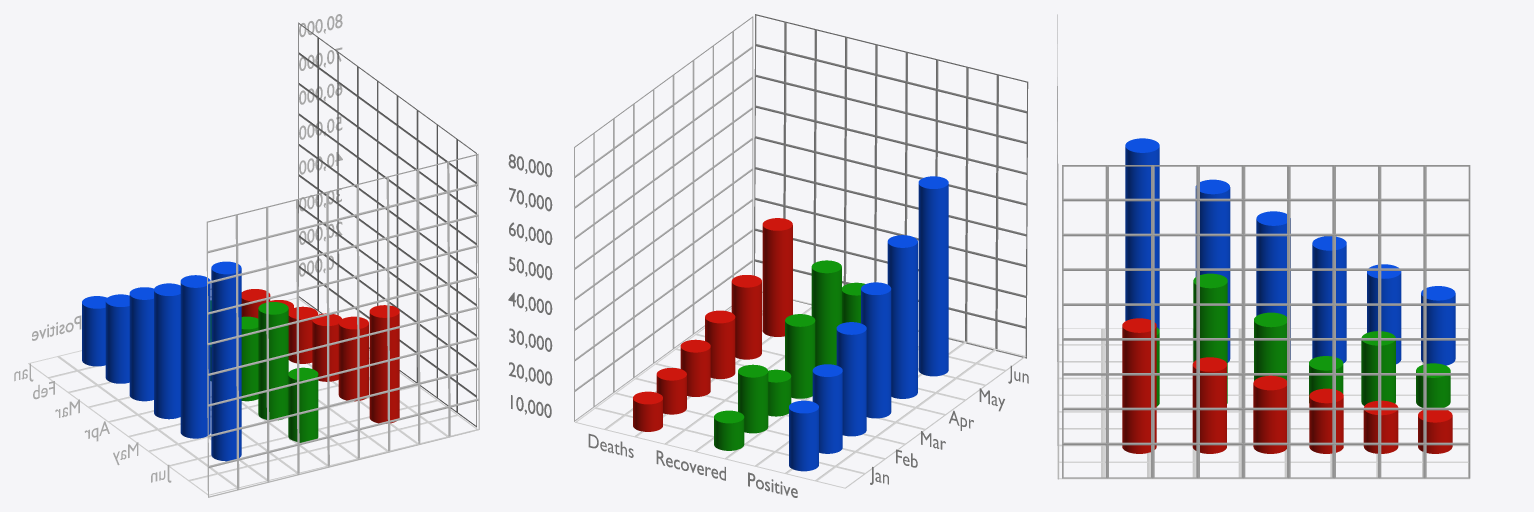
The model's file is bar chart.fbx.
The picture shows the model from 3 angles, left to right: view 1: azimuth 30°, elevation 25°; view 2: azimuth 150°, elevation 25°; view 3: azimuth 270°, elevation 25°; orthographic projection. The views are drawn at different scales.
Parts seen in each view (by area): view 1: Grid.003, Grid.002, rrrrrrr.002, Cylinder.014, Grid.001, Cylinder.013, rrrrrrr, rrrrrrr.001, Cylinder.012, Cylinder.004, Cylinder.011, Cylinder.009 (+5 smaller); view 2: Grid.003, Grid.002, rrrrrrr.002, Cylinder.014, Grid.001, Cylinder.013, rrrrrrr, Cylinder.012, rrrrrrr.001, Cylinder.004, Cylinder.011, Cylinder.008 (+9 smaller); view 3: Grid.002, Grid.001, rrrrrrr.002, rrrrrrr, Cylinder.012, Cylinder.014, Cylinder.013, Cylinder.004, rrrrrrr.001, Cylinder.003, Cylinder.010, Cylinder.011 (+8 smaller).
Part boxes in pixels (box(x1,y1,x2,y2)): Grid.003: box(206, 153, 479, 497); Grid.002: box(298, 22, 476, 427); rrrrrrr.002: box(211, 261, 241, 461); Cylinder.014: box(180, 275, 210, 438); Grid.001: box(28, 297, 478, 495); Cylinder.013: box(154, 283, 180, 419); rrrrrrr: box(369, 305, 399, 423); rrrrrrr.001: box(258, 302, 288, 420); Cylinder.012: box(129, 287, 153, 401); Cylinder.004: box(338, 316, 368, 401); Cylinder.011: box(105, 294, 129, 383); Cylinder.009: box(288, 367, 318, 442); Grid.003: box(754, 14, 1028, 358); Grid.002: box(574, 16, 753, 421); rrrrrrr.002: box(918, 176, 948, 376); Cylinder.014: box(887, 235, 917, 398); Grid.001: box(575, 292, 1026, 488); Cylinder.013: box(861, 282, 891, 418); rrrrrrr: box(762, 218, 792, 336); Cylinder.012: box(836, 322, 866, 436); rrrrrrr.001: box(811, 260, 841, 366); Cylinder.004: box(731, 275, 761, 359); Cylinder.011: box(812, 364, 842, 453); Cylinder.008: box(785, 314, 815, 398); Grid.002: box(1062, 165, 1470, 478); Grid.001: box(1057, 328, 1469, 479); rrrrrrr.002: box(1125, 138, 1159, 329); rrrrrrr: box(1122, 318, 1156, 453); Cylinder.012: box(1312, 236, 1346, 363); Cylinder.014: box(1195, 179, 1230, 362); Cylinder.013: box(1256, 211, 1290, 359); Cylinder.004: box(1192, 357, 1226, 453); rrrrrrr.001: box(1193, 273, 1227, 403); Cylinder.003: box(1253, 375, 1286, 453); Cylinder.010: box(1421, 286, 1455, 365); Cylinder.011: box(1367, 264, 1401, 364).
Size of the model in its own units: 2762 by 2038 by 2668.
